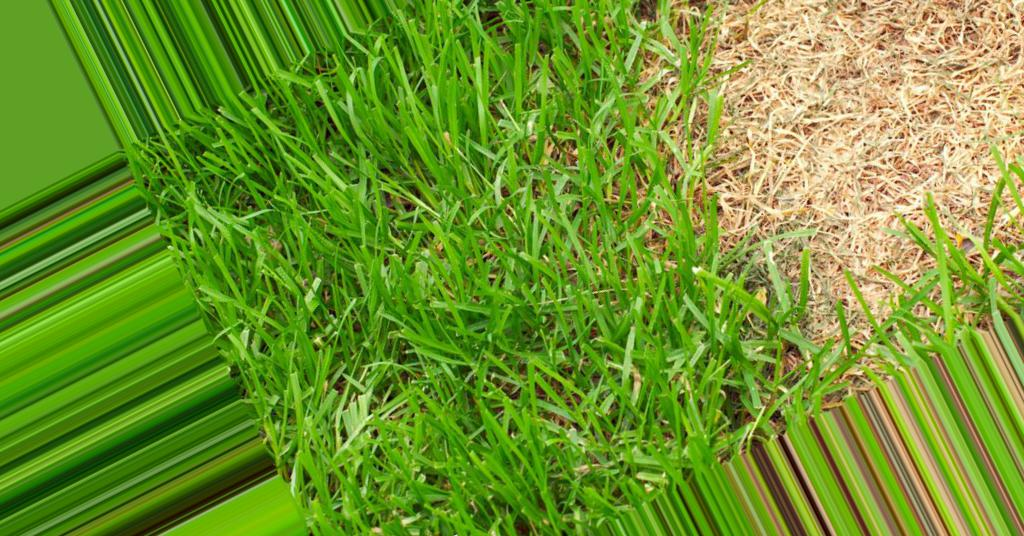patch: (739, 25, 980, 192), (770, 10, 1018, 129), (782, 139, 901, 254)
